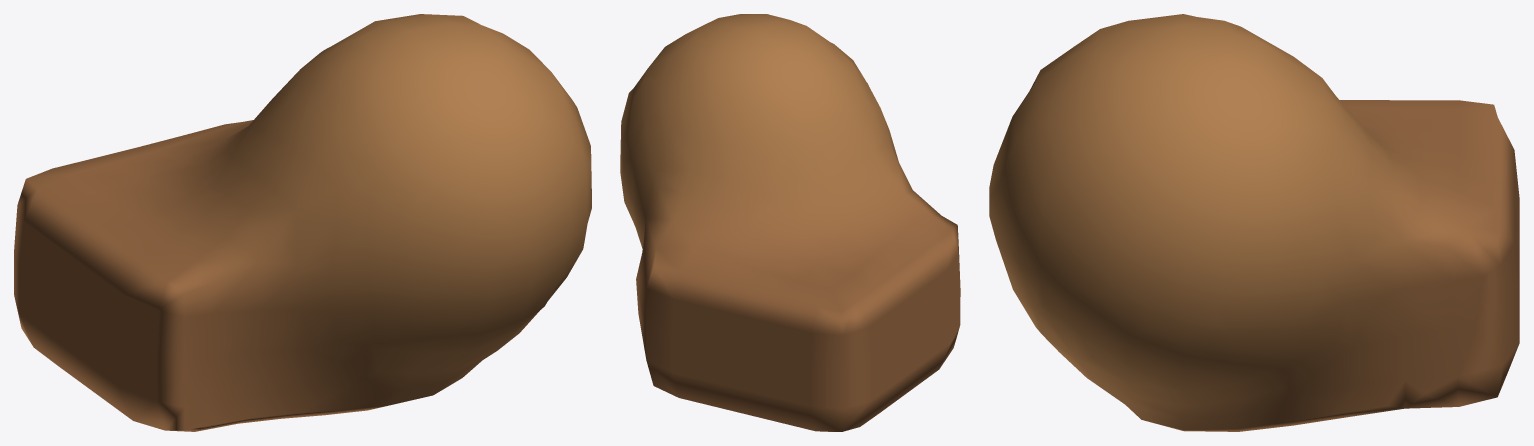
Rendered from 44_quads_400.fbx.
3 renders of one model, left to right at view 1: azimuth 30°, elevation 25°; view 2: azimuth 150°, elevation 25°; view 3: azimuth 270°, elevation 25°, orthographic. The views are drawn at different scales.
Parts seen in each view (by area): view 1: claycore; view 2: claycore; view 3: claycore.
Boxes of the visible parts, x1=… form: claycore: x1=14, y1=14, x2=591, y2=431; claycore: x1=620, y1=14, x2=960, y2=431; claycore: x1=989, y1=14, x2=1519, y2=431.
Size of the model in its own units: 0.7418 by 0.6193 by 0.7257.
